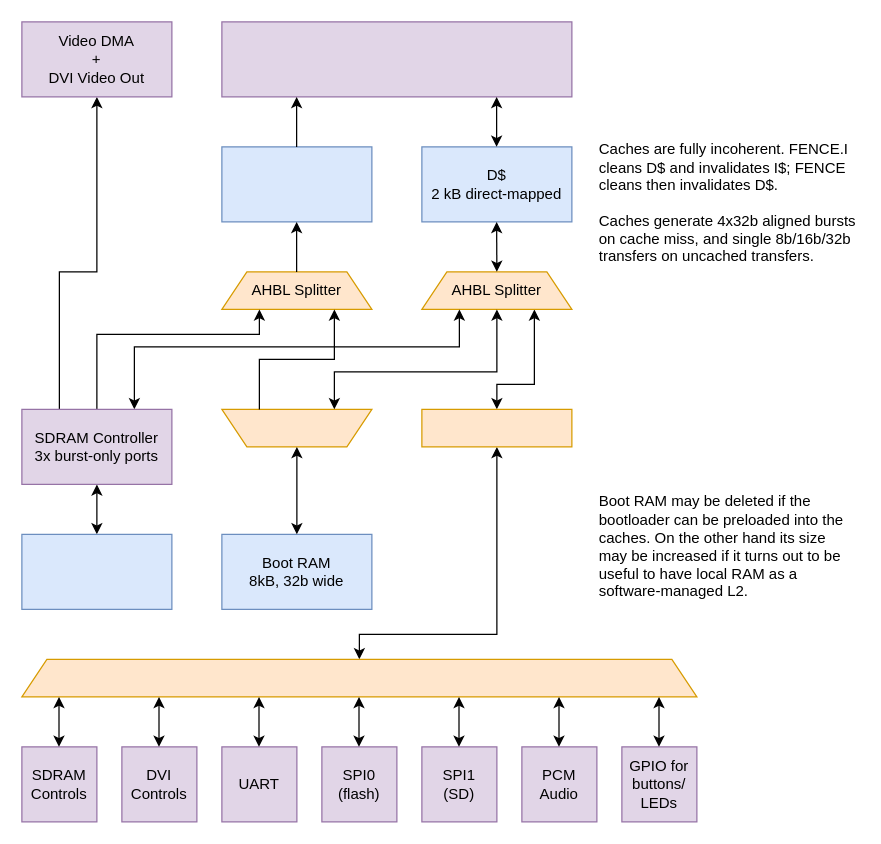
Some shapes in this 881 by 844 pixel diagram are drawn without their labels. The shapes that lost their labels are listed below. From the top down, each one's centre as x and y in pixels, then its label:
At (396,59): "Hazard5 CPU Config: Dual port, RV32IM w/ fast MUL".
At (296,184): "I$ 2 kB direct-mapped".
At (296,427): "AHBL Arbiter".
At (496,427): "AHBL-APB Bridge".
At (96,571): "SDRAM 512 Mb 16b wide @ 80 MHz".
At (359,677): "APB Splitter".
